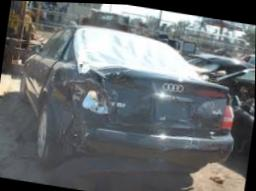Bumper: (56, 109, 234, 164)
Dickey: (83, 66, 231, 128)
Light: (75, 81, 108, 116)
Windshield: (77, 26, 200, 77)
